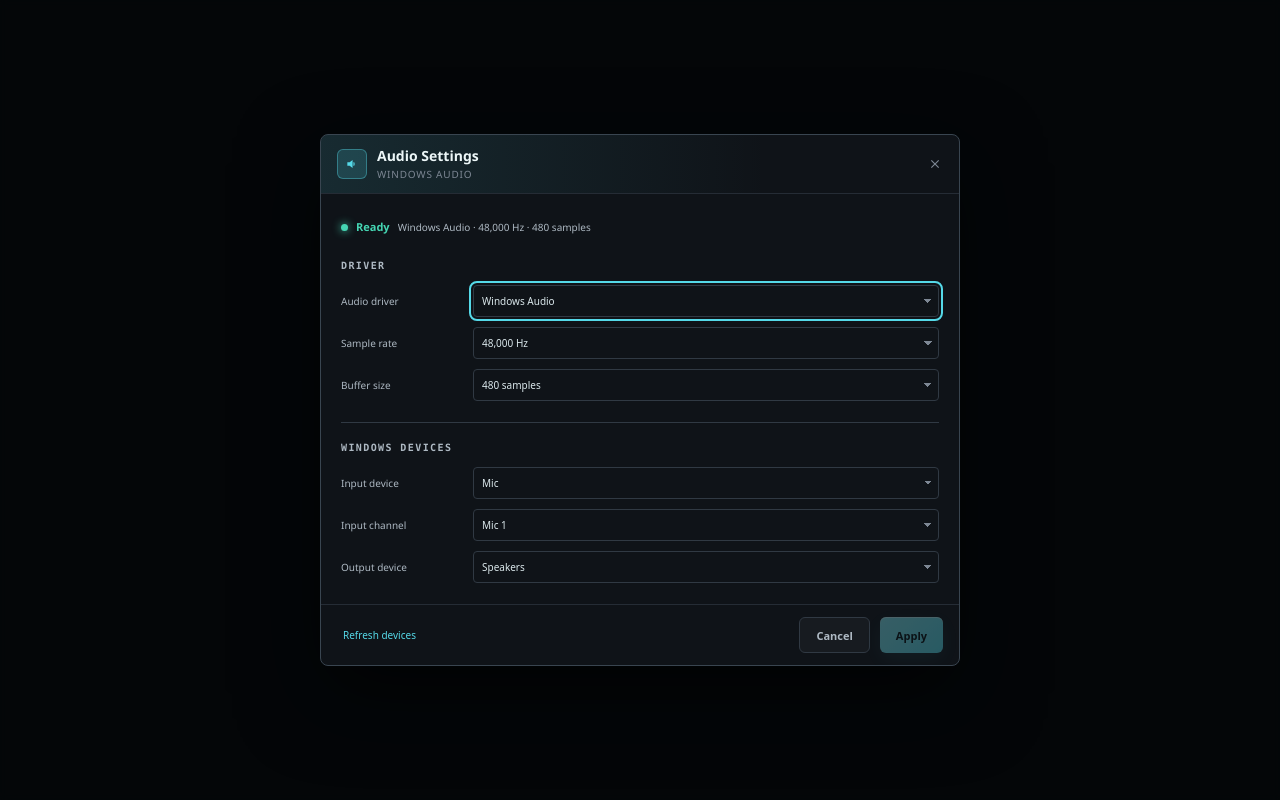
Scenario: AudioSettingsDialog › applies once, then keeps the dialog open for a faulted response
This screenshot has width=1280, height=800.
Select "96,000 Hz" in the dropdown labelled "Sample rate" at (706, 343), box [473, 327, 939, 359]
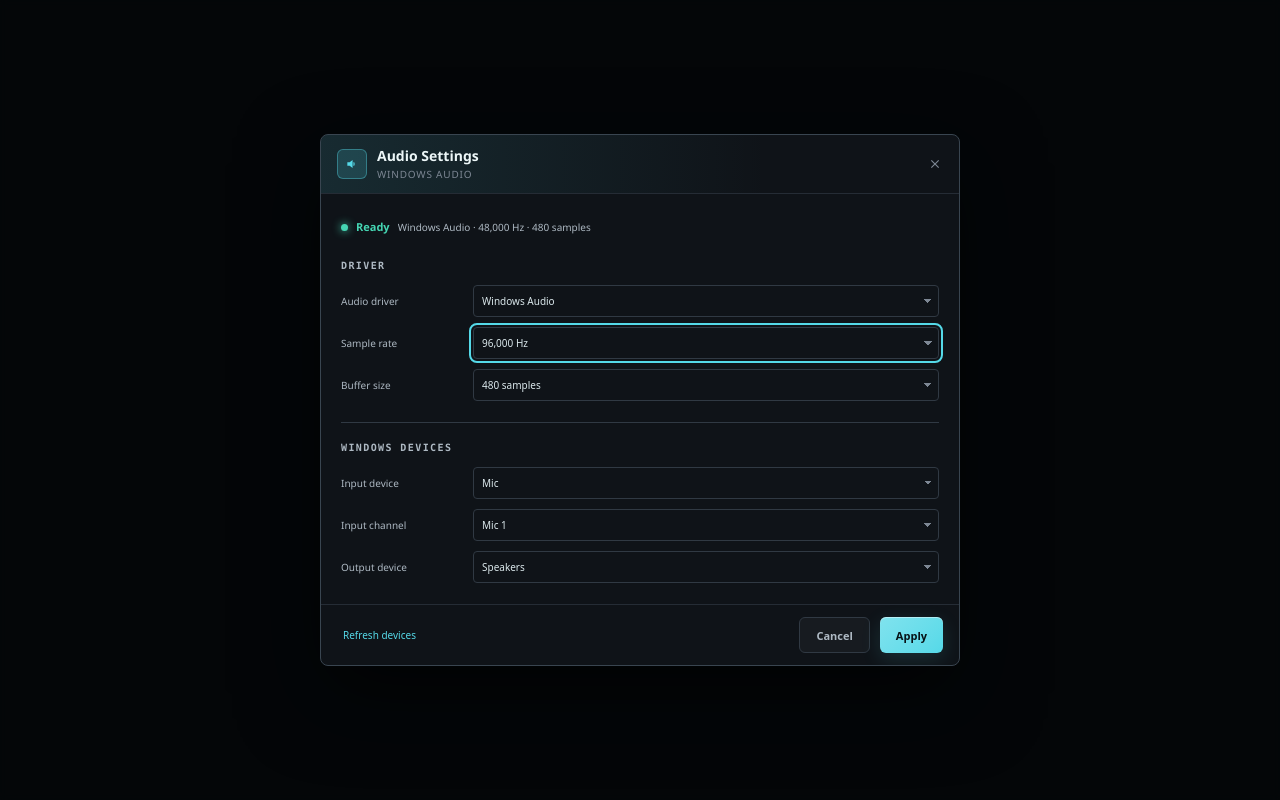
Click the button "Apply" at (911, 635), box [880, 617, 943, 653]
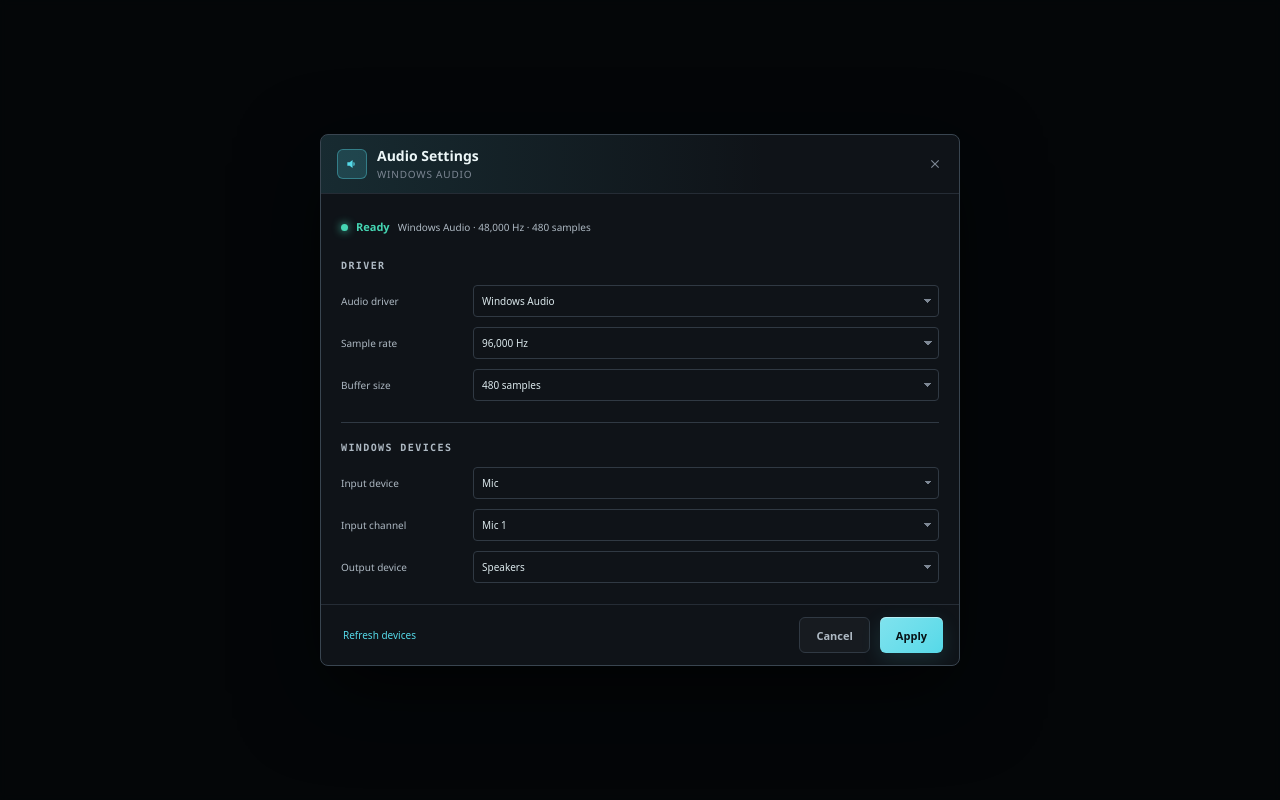
Select "64 samples" in the dropdown labelled "Buffer size" at (706, 385), box [473, 369, 939, 401]
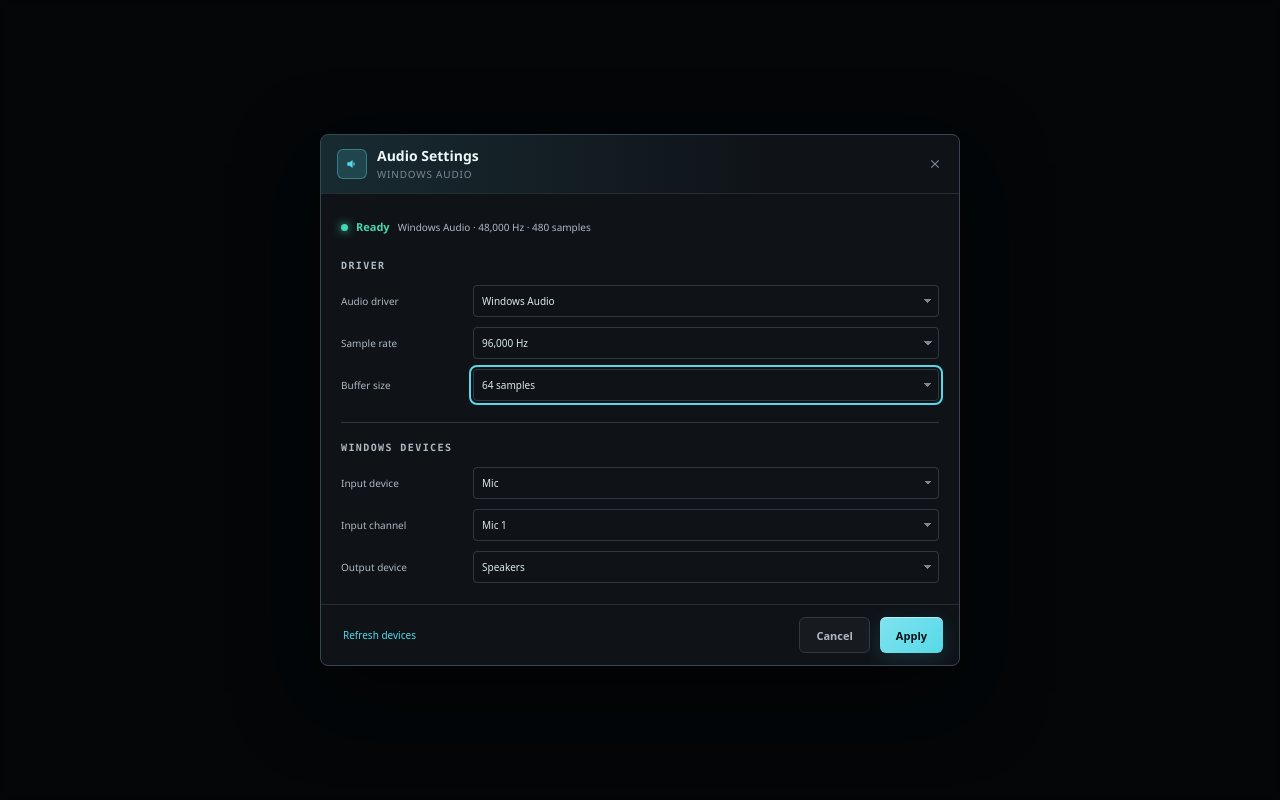
Click the button "Apply" at (911, 635), box [880, 617, 943, 653]
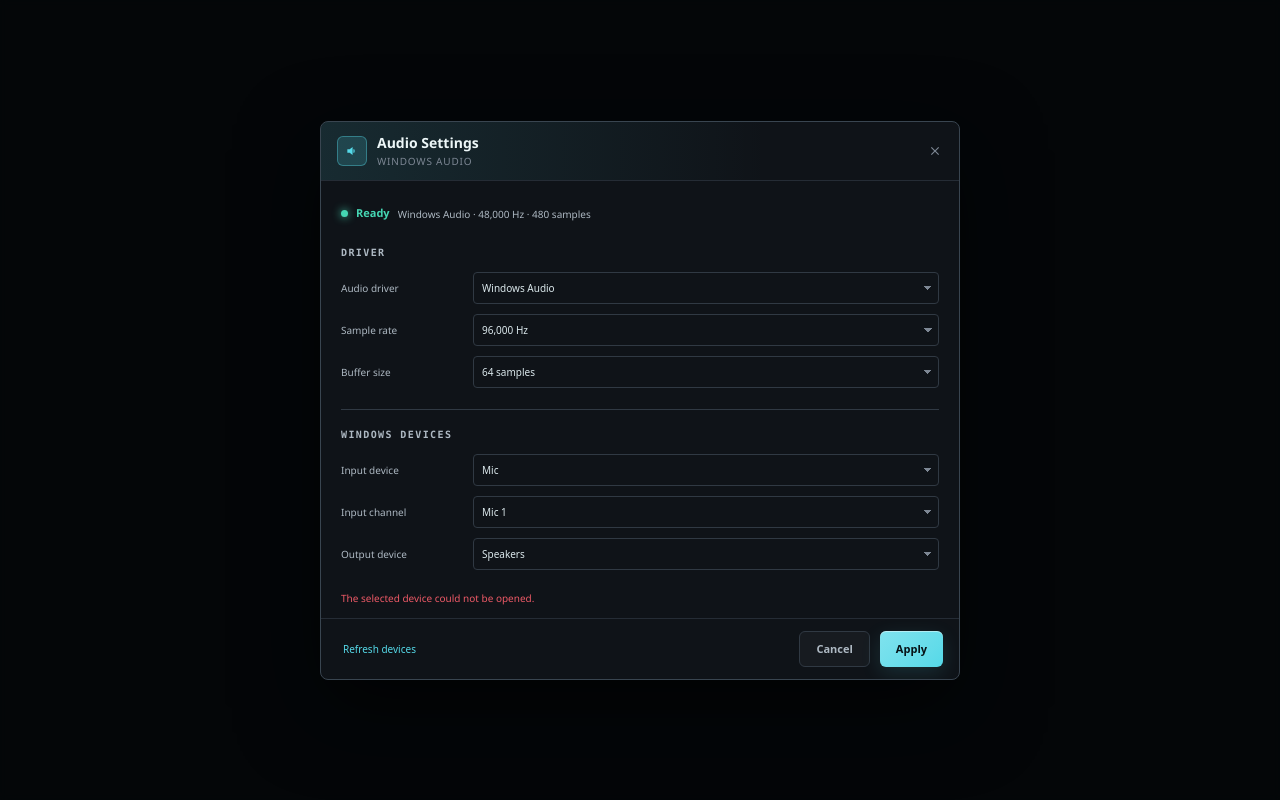
Now the message shows "could not be opened", box [341, 590, 534, 604]
